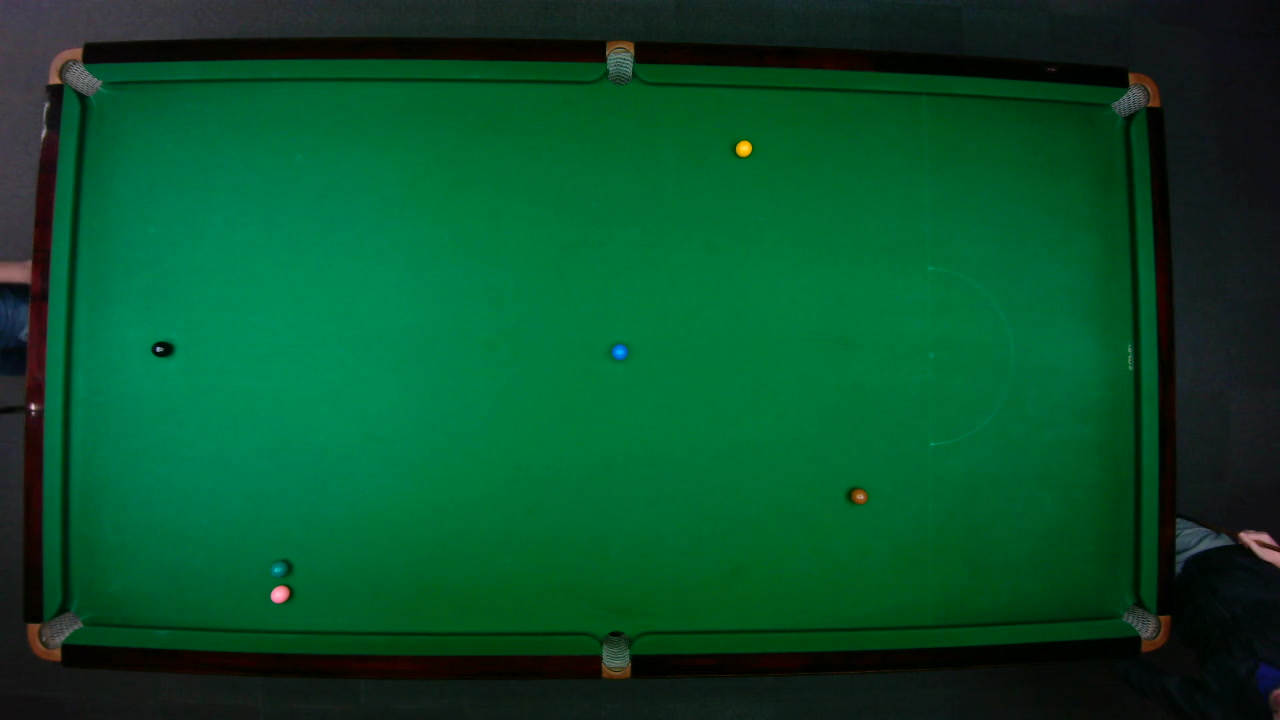bag: (25, 609, 83, 661), (46, 47, 102, 96), (1119, 603, 1171, 651), (1108, 72, 1161, 118), (601, 629, 630, 680), (605, 38, 633, 85)
black: (150, 339, 172, 357)
blue: (610, 342, 628, 360)
brown: (848, 487, 868, 504)
green: (269, 558, 289, 576)
pink: (268, 583, 290, 604)
yellow: (733, 138, 753, 157)
zone: (926, 266, 1013, 445)
